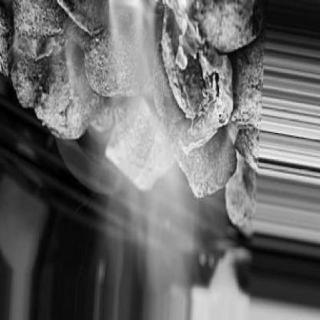Fire: (81, 11, 212, 313)
